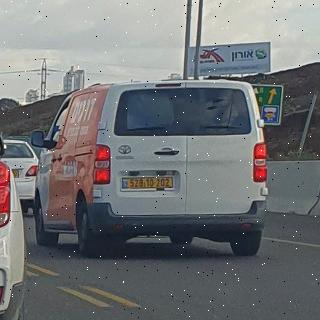LicensePlate: (129, 179, 172, 187)
